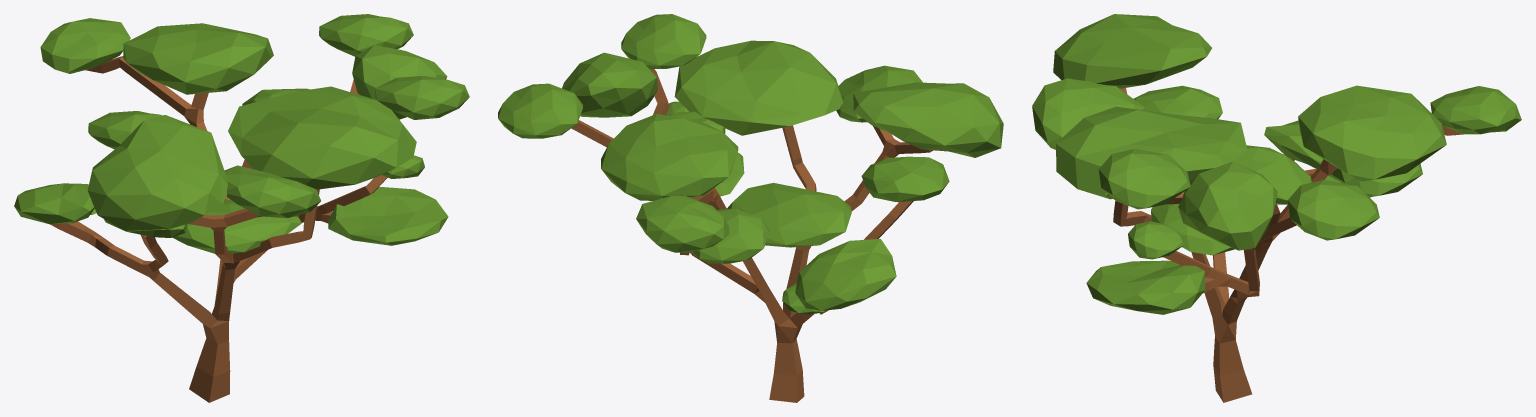
Rendered from bigtree.glb.
The picture shows the model from 3 angles, left to right: view 1: azimuth 30°, elevation 25°; view 2: azimuth 150°, elevation 25°; view 3: azimuth 270°, elevation 25°; orthographic projection. The views are drawn at different scales.
Parts seen in each view (by area): view 1: Tree; view 2: Tree; view 3: Tree.
Boxes of the visible parts, x1,y1,x2,y2 form: Tree: (14, 14, 469, 402); Tree: (498, 14, 1003, 402); Tree: (1032, 14, 1521, 402).
Bounding box in the file's own units: 10.95 × 7.94 × 10.87.
1 material, 1 textured.
